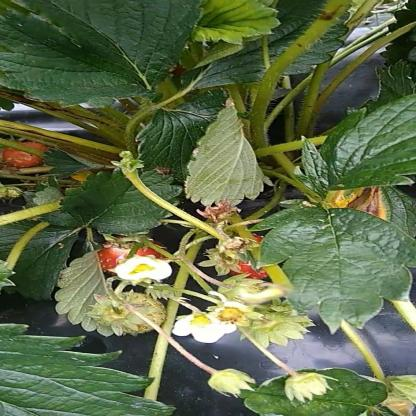ripe: (204, 234, 288, 280), (93, 240, 164, 266), (0, 143, 56, 171)
unripe: (92, 293, 167, 335)
